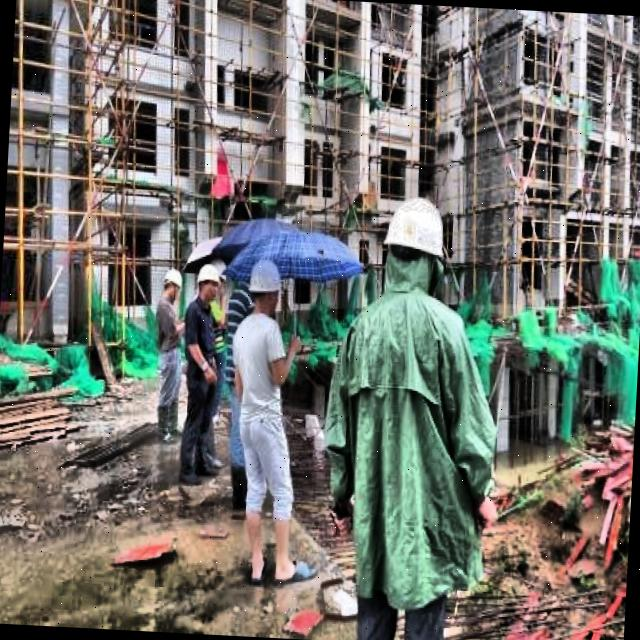helmet: (376, 192, 453, 312), (244, 248, 288, 318), (194, 260, 221, 306), (162, 264, 183, 306)
